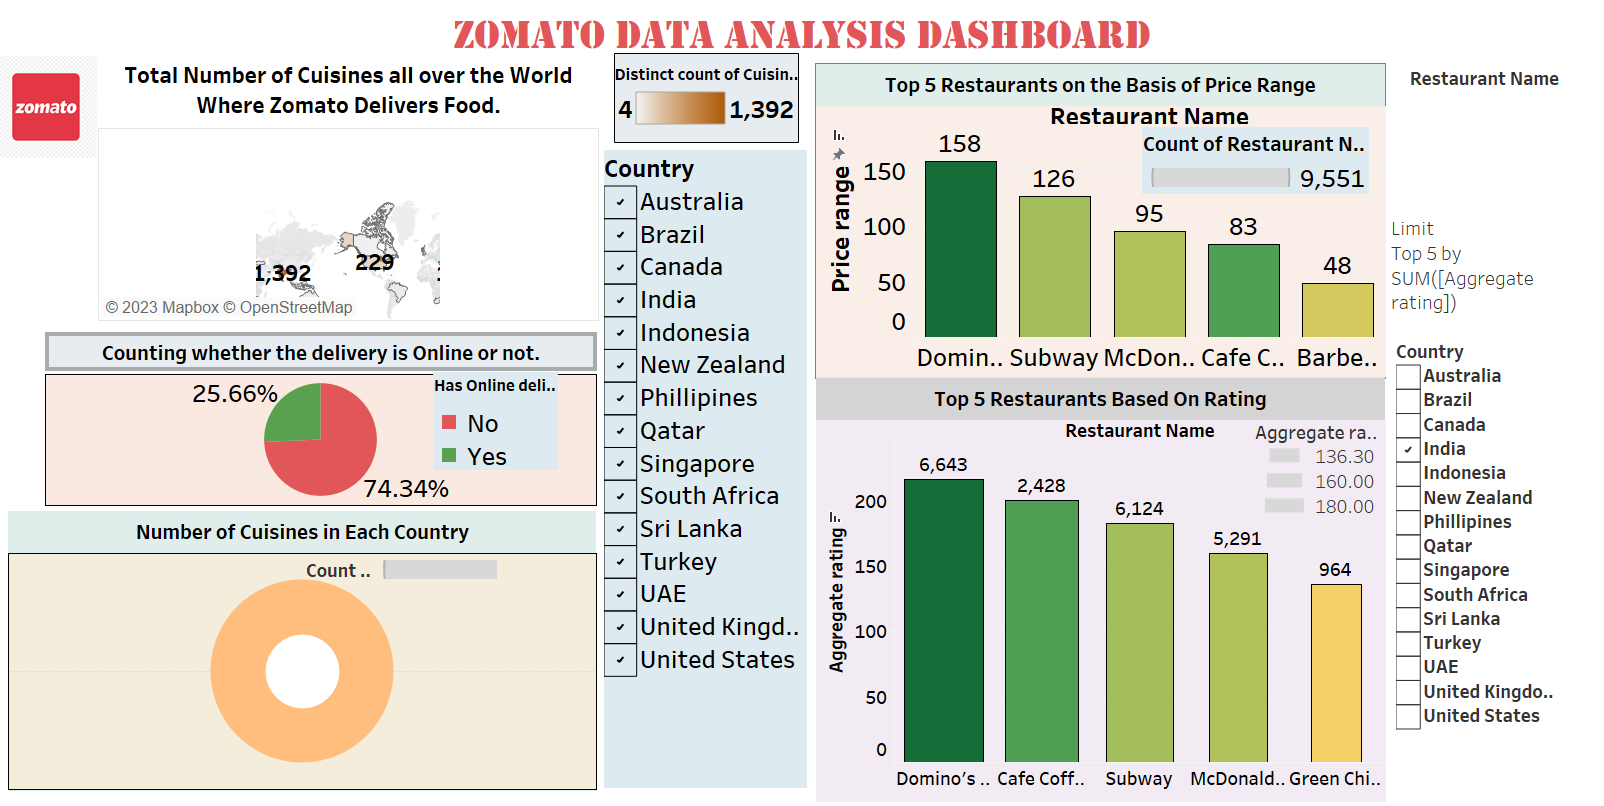

Layout of this report page (visuals, bound fields, positions):
{"tool":"tableau","page":{"name":"ZOMATO DASHBOARD","canvas":[1000,1000],"units":"permille","ordinal":1},"visuals":[{"type":"title","box":[5,9.9,990,69.5]},{"type":"worksheet","title":"Total No Of Cuisines Zomato Delivers","mark":"Automatic","box":[61,65.8,312.6,332.6]},{"type":"legend","title":"Total No Of Cuisines Zomato Delivers","param":"[federated.1ed8y8f1o2sxl615s4h9m1so5eng].[ctd:Cuisines:qk]","box":[382.6,65.8,115.3,116.3]},{"type":"worksheet","title":"Top 5 Restaurants  By Price Range","mark":"Bar","rows":["Price range"],"cols":["Restaurant Name"],"box":[508.2,78.7,356.1,391.3]},{"type":"filter","title":"Top 5 Restaurants on Basis of Ratings","param":"[federated.1ed8y8f1o2sxl615s4h9m1so5eng].[none:Restaurant Name:nk]","box":[867.2,79.9,116.5,316.1]},{"type":"legend","title":"Count of Delivery Online/Not","param":"[federated.1ed8y8f1o2sxl615s4h9m1so5eng].[cnt:Restaurant Name:qk]","box":[712.1,157.5,141.2,87]},{"type":"filter","title":"Count of Delivery Online/Not","param":"[federated.1ed8y8f1o2sxl615s4h9m1so5eng].[none:Country:nk]","box":[376.6,185.7,126.7,792]},{"type":"worksheet","title":"Count of Delivery Online/Not","mark":"Pie","box":[28.4,412.5,344,216.2]},{"type":"legend","title":"Count of Delivery Online/Not","param":"[federated.1ed8y8f1o2sxl615s4h9m1so5eng].[none:Has Online delivery:nk]","box":[269.8,461.8,77.9,121]},{"type":"worksheet","title":"Top 5 Restaurants on Basis of Ratings","mark":"Automatic","rows":["Aggregate rating"],"cols":["Restaurant Name"],"box":[508.8,468.9,354.9,526.4]},{"type":"legend","title":"Top 5 Restaurants on Basis of Ratings","param":"[federated.1ed8y8f1o2sxl615s4h9m1so5eng].[sum:Aggregate rating:qk]","box":[781.5,517,79.1,128.1]},{"type":"worksheet","title":"Donut Chart No Of  Cuisines In Each Country","mark":"Automatic","rows":["Calculation_1405123138381164707","Calculation_1405123138381164707"],"box":[4.8,634.6,366.9,346.7]},{"type":"legend","title":"Donut Chart No Of  Cuisines In Each Country","param":"[federated.1ed8y8f1o2sxl615s4h9m1so5eng].[cnt:Cuisines:qk]","box":[190.7,691,118.9,56.4]}]}

Visuals, with their boxes on the dashboard's canvas, which has no fixed pixel size, in thousandths of its width and height (x1, y1, x2, y2). These are canvas units, not pixel positions in the 1604x806 screenshot, which may show the page scaled, cropped or inside an application window:
title: bbox=(5, 10, 995, 79)
"Total No Of Cuisines Zomato Delivers" worksheet: bbox=(61, 66, 374, 398)
"Total No Of Cuisines Zomato Delivers" legend: bbox=(383, 66, 498, 182)
"Top 5 Restaurants  By Price Range" worksheet (Bar marks): bbox=(508, 79, 864, 470)
"Top 5 Restaurants on Basis of Ratings" filter: bbox=(867, 80, 984, 396)
"Count of Delivery Online/Not" legend: bbox=(712, 158, 853, 244)
"Count of Delivery Online/Not" filter: bbox=(377, 186, 503, 978)
"Count of Delivery Online/Not" worksheet (Pie marks): bbox=(28, 412, 372, 629)
"Count of Delivery Online/Not" legend: bbox=(270, 462, 348, 583)
"Top 5 Restaurants on Basis of Ratings" worksheet: bbox=(509, 469, 864, 995)
"Top 5 Restaurants on Basis of Ratings" legend: bbox=(782, 517, 861, 645)
"Donut Chart No Of  Cuisines In Each Country" worksheet: bbox=(5, 635, 372, 981)
"Donut Chart No Of  Cuisines In Each Country" legend: bbox=(191, 691, 310, 747)
